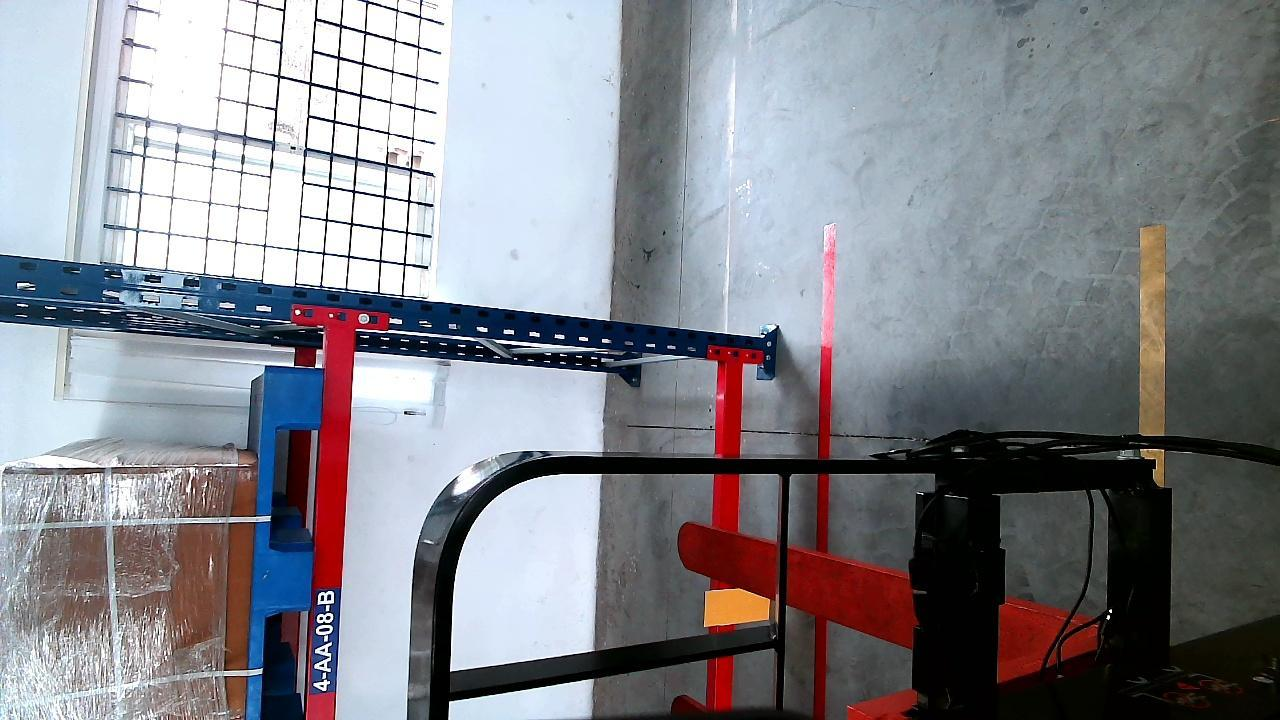red_line: (817, 226, 837, 475)
yellow_line: (1141, 220, 1165, 451)
